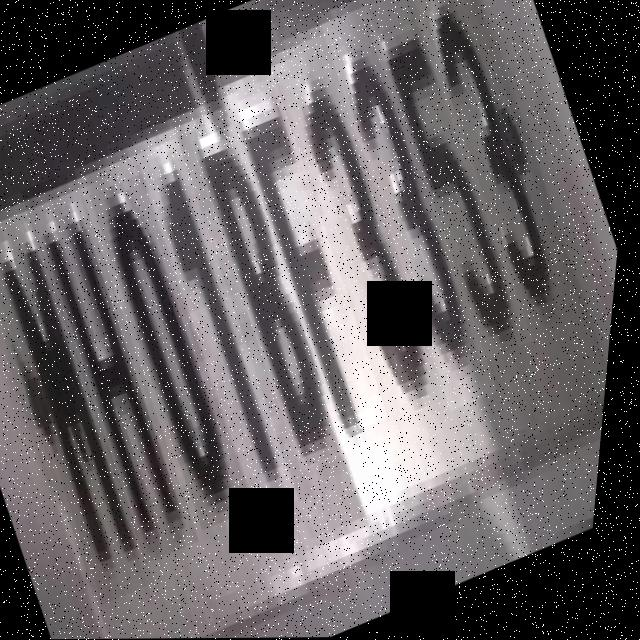0: (61, 155, 288, 531)
1: (109, 124, 334, 517)
3: (294, 5, 532, 414), (260, 60, 490, 444), (381, 0, 593, 324)
5: (350, 17, 562, 363)
B: (161, 103, 382, 473)
F: (201, 65, 422, 437)
H: (0, 168, 235, 564)
M: (0, 210, 191, 604)
